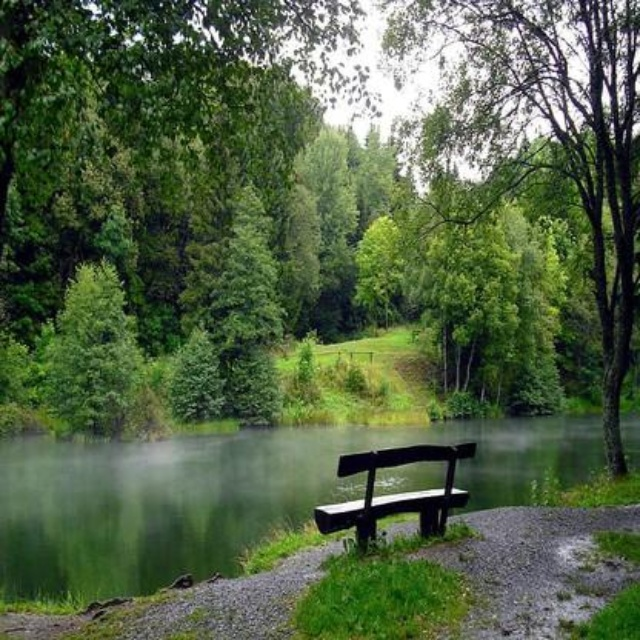obstacle: (315, 431, 482, 562)
